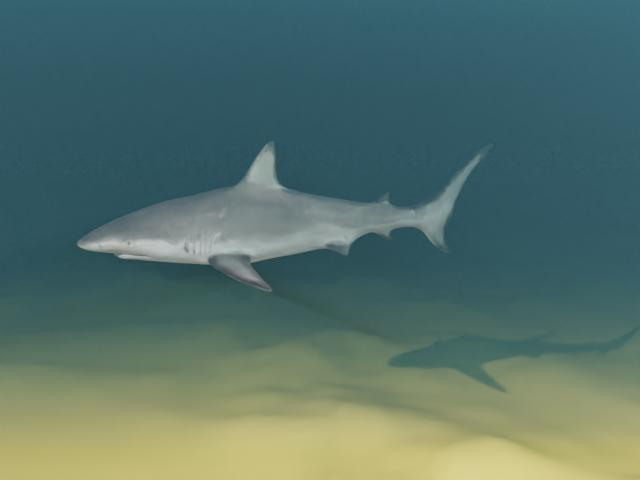Carribean Shark.001: (76, 140, 493, 291)
